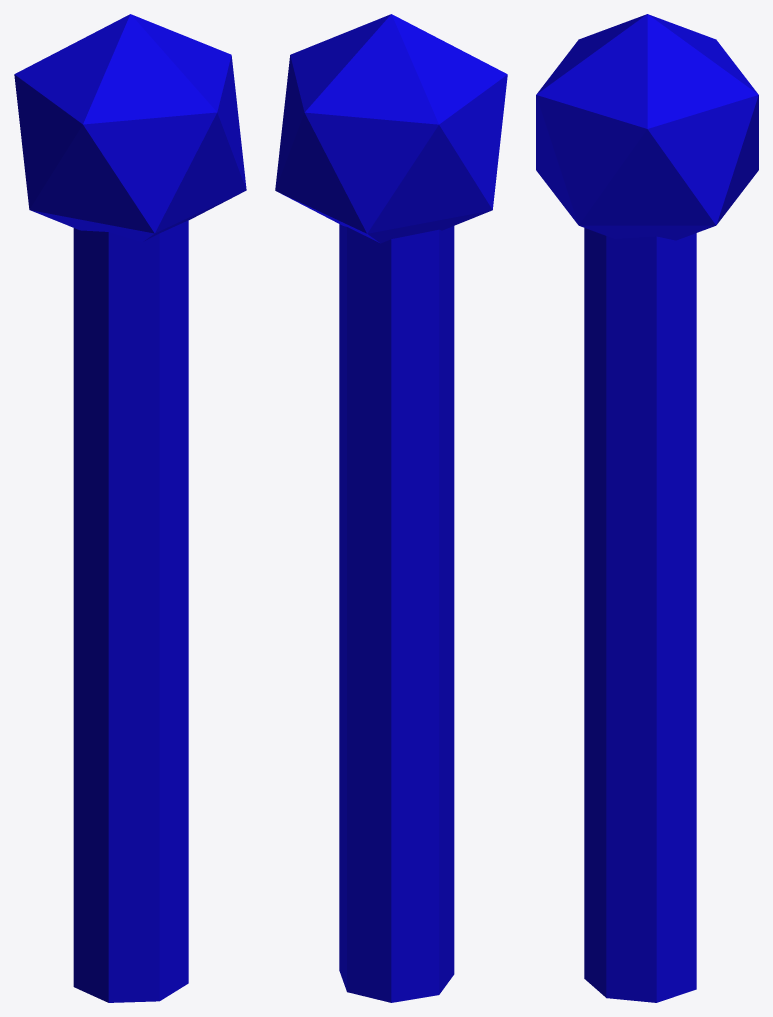
The model's file is Work_Shop_Lever blue.fbx.
3 renders of one model, left to right at view 1: azimuth 30°, elevation 25°; view 2: azimuth 150°, elevation 25°; view 3: azimuth 270°, elevation 25°, orthographic.
Parts seen in each view (by area): view 1: Cylinder; view 2: Cylinder; view 3: Cylinder.
Part boxes in pixels (x1,y1,x2,y2): Cylinder: (14, 14, 246, 1002); Cylinder: (275, 14, 507, 1002); Cylinder: (536, 14, 758, 1002).
Bounding box in the file's own units: 0.2388 × 1.09 × 0.2271.
